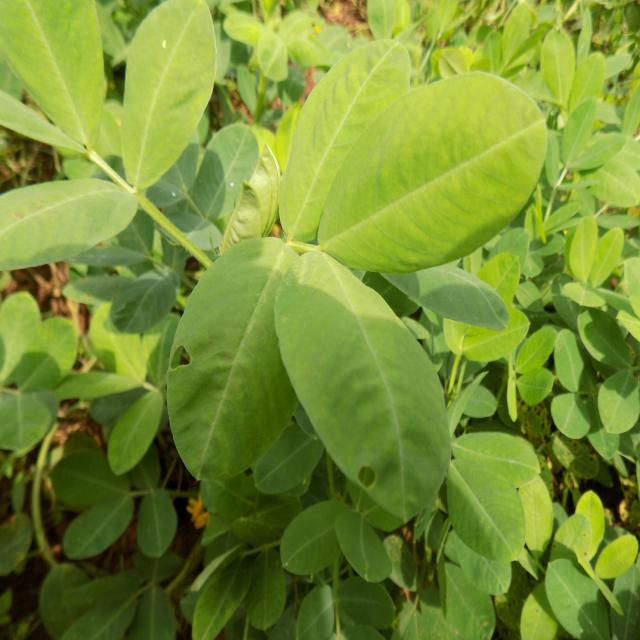Ground nut_healthy: (278, 246, 452, 522), (314, 75, 550, 272), (168, 230, 287, 477), (278, 42, 412, 243), (123, 0, 219, 189), (0, 0, 107, 149), (5, 176, 140, 263), (445, 454, 524, 566), (192, 121, 260, 226), (10, 316, 82, 396), (285, 492, 347, 584), (542, 557, 612, 638), (329, 502, 397, 585), (430, 556, 497, 636), (190, 554, 253, 638), (253, 428, 324, 500), (108, 381, 159, 477), (65, 488, 131, 558), (554, 330, 600, 400), (563, 96, 600, 178), (542, 28, 577, 114), (596, 368, 640, 434), (496, 5, 540, 67), (513, 322, 562, 377), (574, 486, 606, 556), (146, 489, 174, 556), (572, 214, 596, 292)
